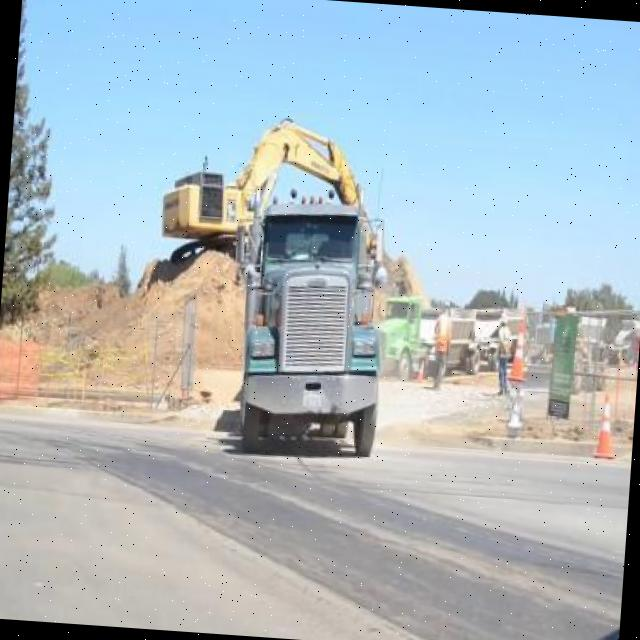Dump Truck: (220, 181, 396, 454), (376, 284, 530, 388)
Excavator: (156, 106, 398, 272)
